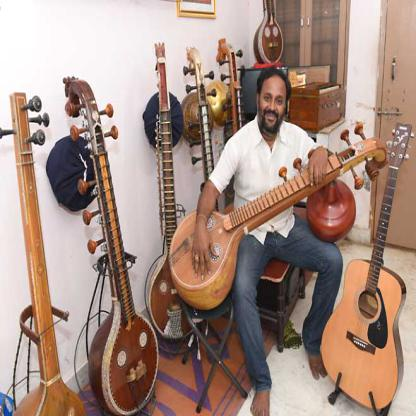Veena: (75, 72, 156, 413), (4, 88, 73, 408), (169, 169, 311, 302), (156, 41, 205, 248)
